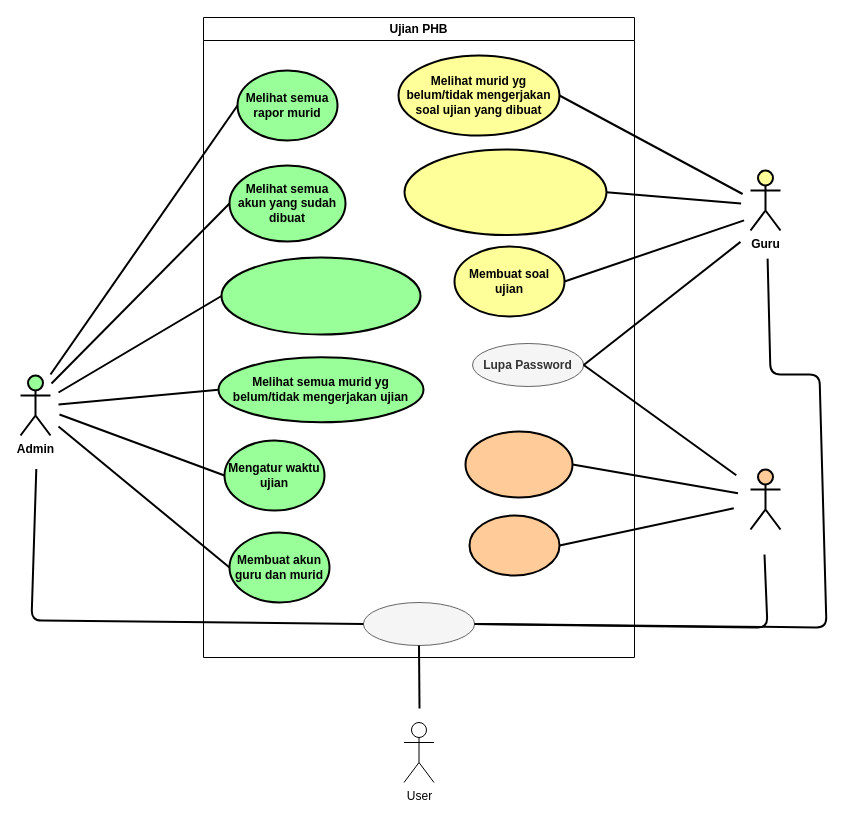
Some shapes in this 846 by 821 pixel diagram are drawn without their labels. The shapes that lost their labels are listed below. From the top down, each one's centre as x and y in pixels, then its label:
At [505,192]: "Melihat nilai murid yg selesai mengerjakan soal ujian yang dibuat".
At [320,295]: "Melihat semua nilai murid yg selesai mengerjakan ujian".
At [518,464]: "Melihat rapor dirinya sendiri".
At [765,499]: "Murid".
At [514,545]: "Mengerjakan ujian".
At [418,624]: "Login/Logout".
